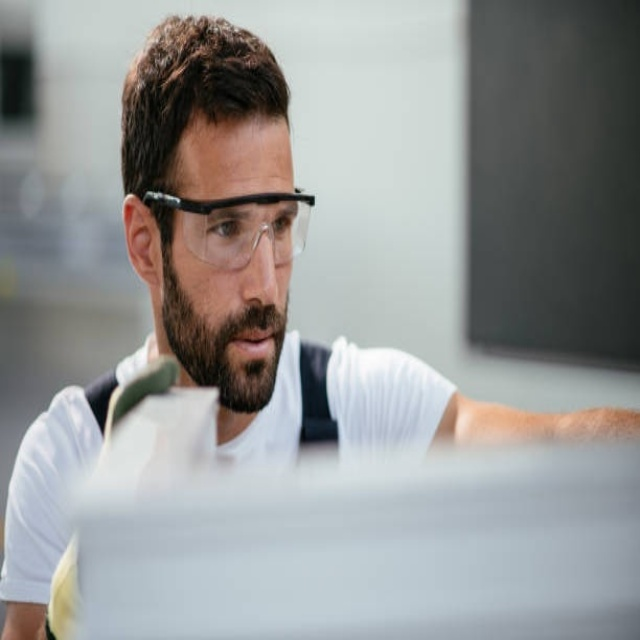Gafas: (144, 190, 317, 270)
Sin_mascara: (218, 307, 283, 378)
